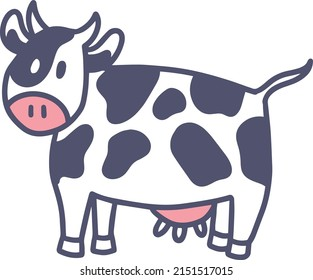animal: (5, 6, 306, 256)
